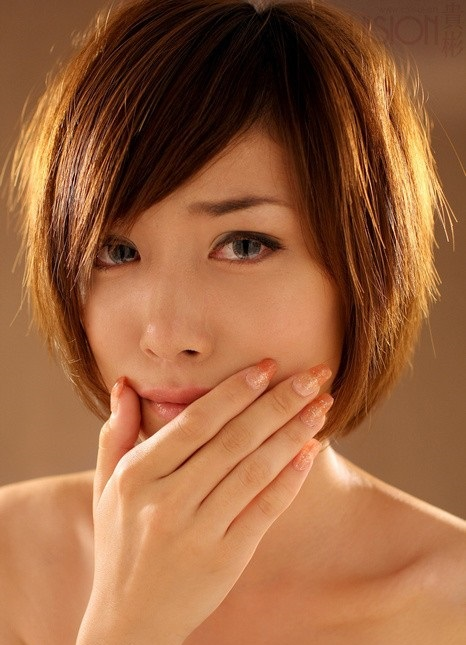face: (79, 78, 339, 462)
